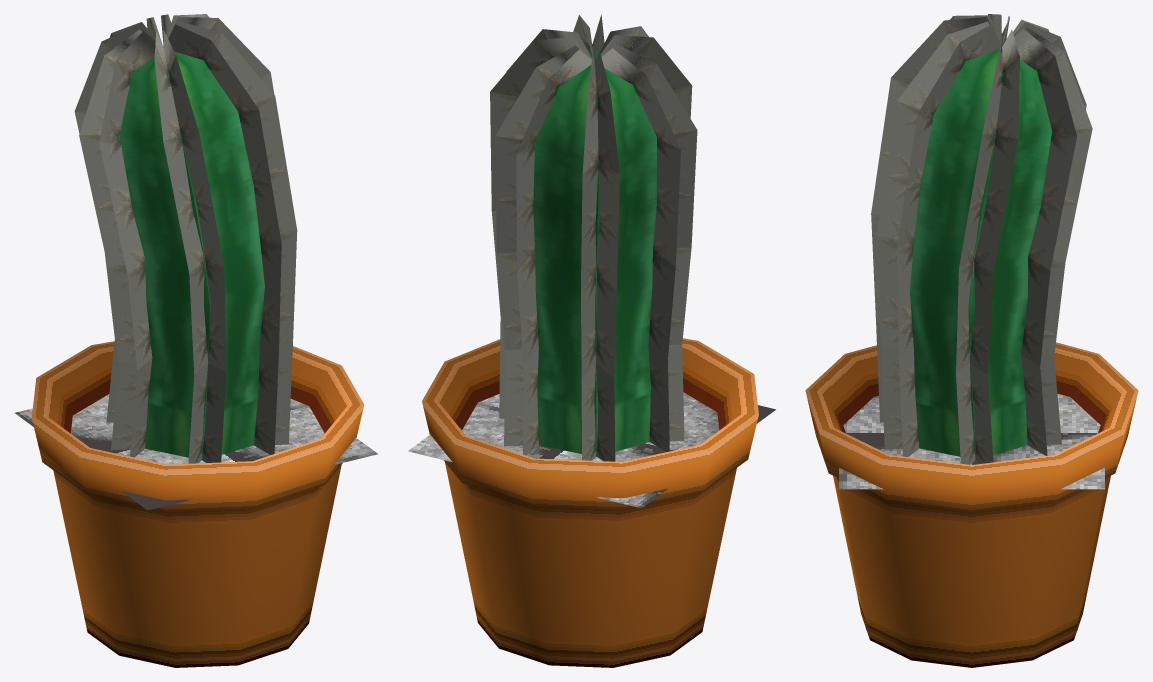
File: int_cct_longS.dae
The picture shows the model from 3 angles, left to right: view 1: azimuth 30°, elevation 25°; view 2: azimuth 150°, elevation 25°; view 3: azimuth 270°, elevation 25°; orthographic projection.
Visible parts, largest first — view 1: int_cct_longS; view 2: int_cct_longS; view 3: int_cct_longS.
Boxes of the visible parts, x1,y1,x2,y2 form: int_cct_longS: [15, 14, 378, 667]; int_cct_longS: [408, 14, 775, 667]; int_cct_longS: [805, 14, 1138, 667].
Bounding box in the file's own units: 12.25 × 24.29 × 12.37.
Materials: 4 (4 with a texture image).
